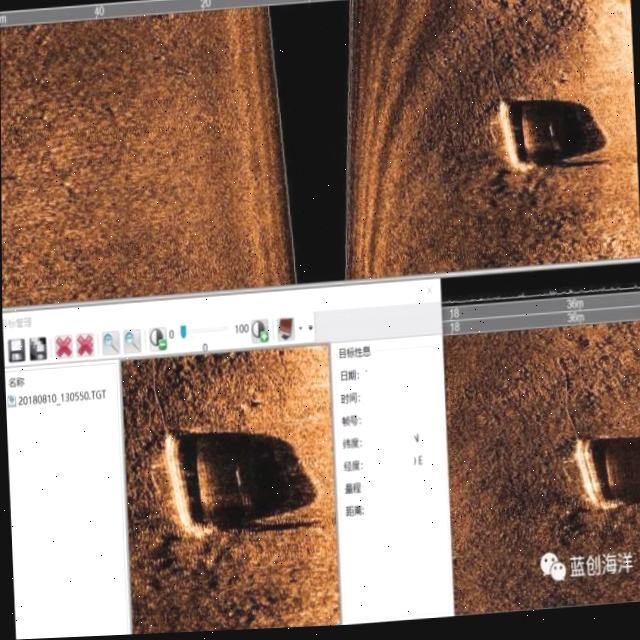shipwreck: (154, 421, 260, 547), (486, 86, 567, 173), (561, 418, 627, 520)
